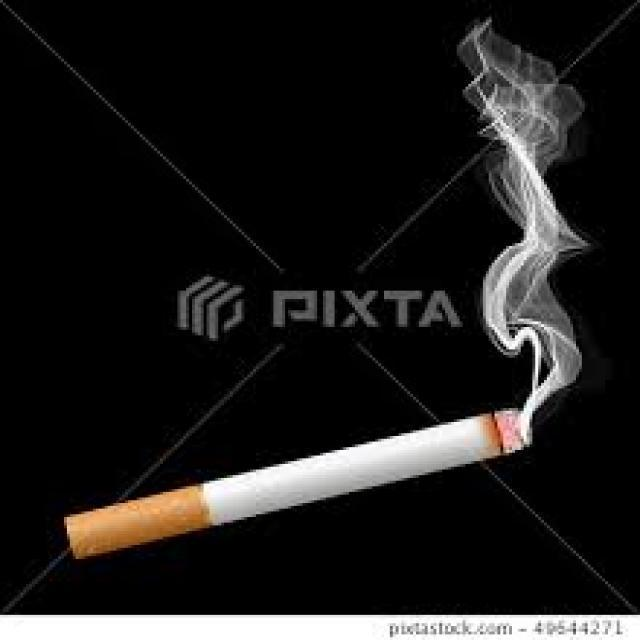rokok: (61, 403, 540, 563)
